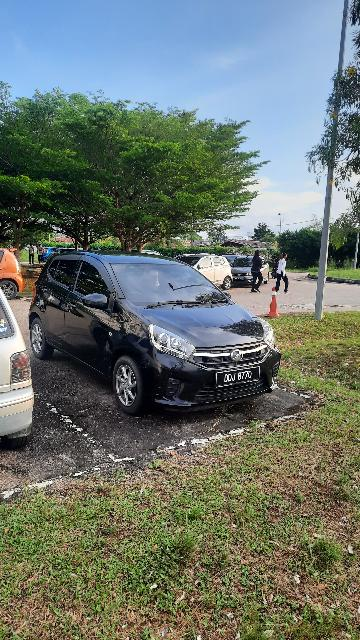License_Plate: (211, 364, 267, 390)
car: (30, 251, 283, 414)
